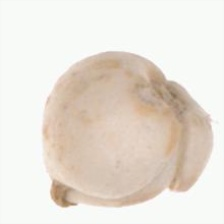L3: (49, 176, 191, 207)
L4: (42, 50, 213, 208)
